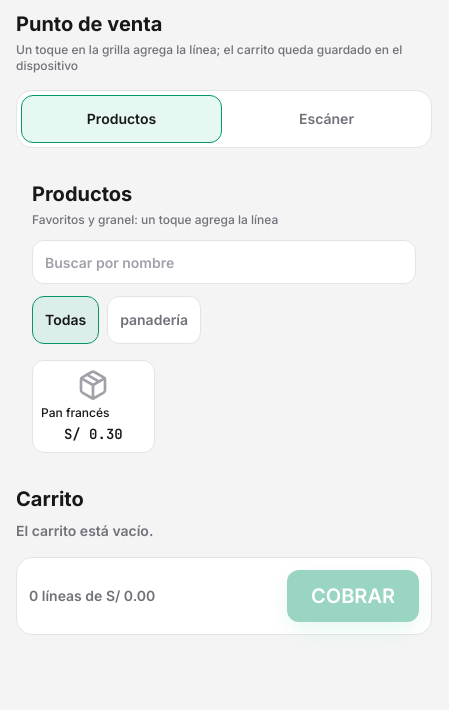
Test: CounterSaleScreen › falls back to the grid with a non-modal notice when the camera is unavailable
Expected: the number of buttons with test id "product-tile" is 1, x1=32 y1=360 x2=155 y2=453
Step 1. Click the button "Escáner" → (326, 119), box x1=226 y1=95 x2=427 y2=143
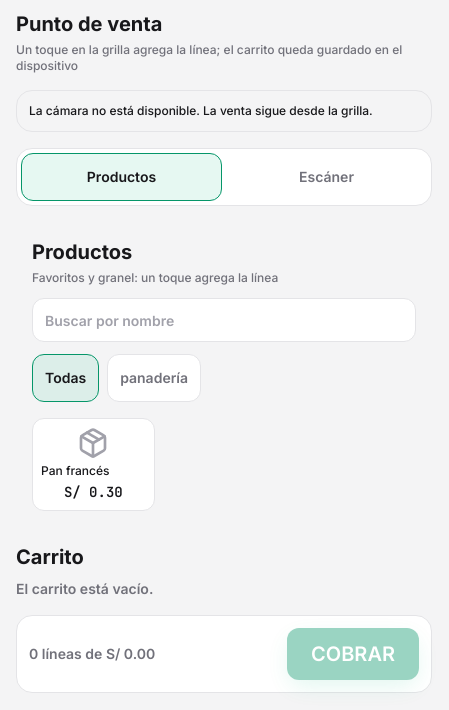
Expected: the number of buttons with test id "product-tile" is 1, x1=32 y1=418 x2=155 y2=511
Expected: the message with test id "scanner-notice" shows "La cámara no está disponible", x1=29 y1=103 x2=373 y2=118
